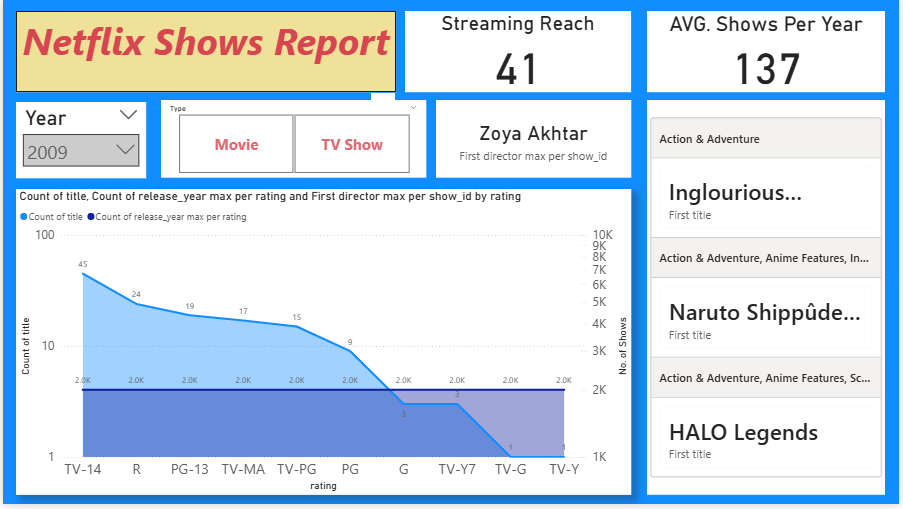

Layout of this report page (visuals, bound fields, positions):
{"tool":"powerbi","page":{"name":"Page 1","canvas":[1280,720],"ordinal":0},"visuals":[{"type":"card","title":"Streaming Reach","fields":{"Values":["Count(netflix_titles.country)"]},"box":[574.3,15.7,322.9,115.7],"z":0},{"type":"textbox","box":[18.6,15.7,542.9,115.7],"z":1000},{"type":"card","title":"AVG. Shows Per Year","fields":{"Values":["netflix_titles.Count of show_id average per release_year"]},"box":[920,15.7,340,115.7],"z":2000},{"type":"slicer","fields":{"Values":["netflix_titles.release_year"]},"box":[18.6,145.7,185.7,108.6],"z":3000},{"type":"lineChart","fields":{"Y":["Count(netflix_titles.title)"],"Category":["netflix_titles.rating"],"Y2":["netflix_titles.Count of release_year max per rating"]},"box":[18.6,270,878.6,437.1],"z":4000},{"type":"card","fields":{"Values":["Count(netflix_titles.director)"]},"box":[618.6,142.9,278.6,111.4],"z":5000},{"type":"cardVisual","fields":{"Data":["Min(netflix_titles.title)"],"Rows":["netflix_titles.listed_in"]},"box":[920,142.9,340,564.3],"z":6000},{"type":"slicer","fields":{"Values":["netflix_titles.type"]},"box":[225.7,142.9,378.6,111.4],"z":7000}]}

Visuals, with their boxes in screenshot pixels (x1, y1, x2, y2), scaled from the page's 1280x720 canvas onto the 903x509 screenshot:
"Streaming Reach" card: 405:11:633:93
textbox: 13:11:396:93
"AVG. Shows Per Year" card: 649:11:889:93
slicer - netflix_titles.release_year: 13:103:144:180
lineChart - Count(netflix_titles.title) x netflix_titles.rating: 13:191:633:500
card - Count(netflix_titles.director): 436:101:633:180
cardVisual - Min(netflix_titles.title) x netflix_titles.listed_in: 649:101:889:500
slicer - netflix_titles.type: 159:101:426:180
